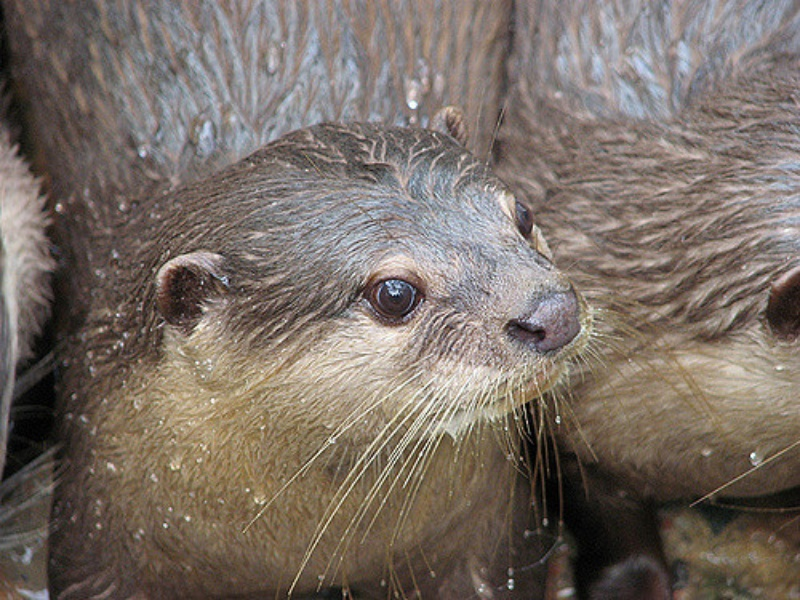minkish: (44, 106, 599, 591)
